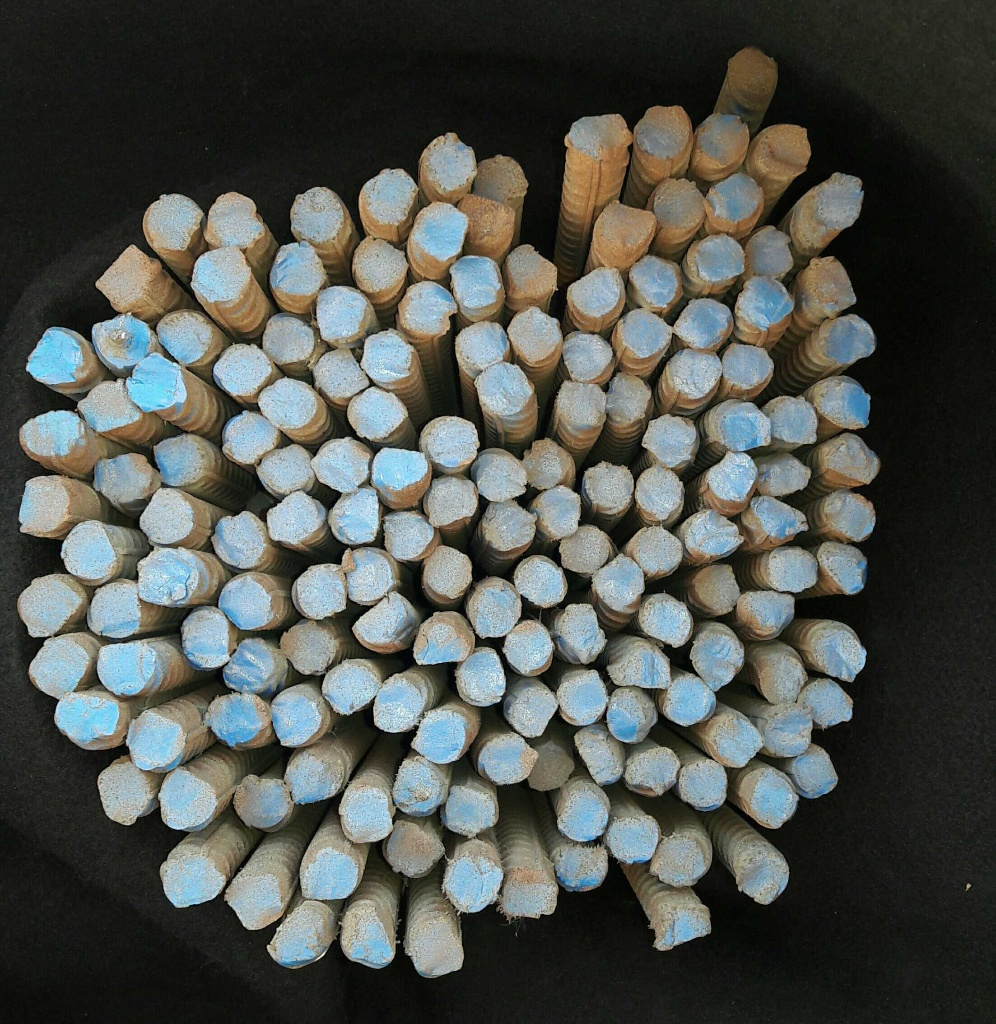dipstick: (17, 576, 80, 636), (204, 192, 263, 250), (127, 711, 184, 771), (443, 857, 503, 914), (53, 692, 119, 743), (29, 641, 87, 699), (353, 593, 412, 650), (160, 855, 224, 907), (284, 747, 343, 803), (129, 354, 186, 411), (144, 194, 202, 250), (95, 245, 150, 304), (347, 387, 407, 441), (79, 380, 142, 431), (192, 247, 250, 302), (597, 201, 655, 256), (137, 550, 192, 607), (98, 764, 148, 826), (415, 201, 468, 259), (97, 644, 155, 697), (209, 694, 268, 746), (233, 774, 289, 828), (26, 330, 83, 383), (312, 439, 369, 492), (161, 772, 214, 829), (342, 910, 394, 968), (363, 169, 417, 224), (140, 487, 194, 542), (292, 564, 346, 619), (457, 320, 511, 375), (690, 636, 744, 691), (61, 523, 114, 579), (227, 878, 284, 930), (258, 379, 317, 429), (19, 411, 84, 456), (461, 195, 515, 249), (387, 822, 441, 876), (87, 582, 140, 637), (469, 581, 521, 637), (373, 447, 430, 498), (393, 759, 444, 816), (223, 638, 276, 692), (476, 362, 531, 414), (214, 344, 270, 395), (281, 623, 337, 674), (92, 316, 149, 366), (181, 610, 230, 668), (314, 349, 368, 401), (402, 282, 456, 334), (814, 376, 869, 427), (426, 134, 476, 190), (422, 417, 478, 467), (415, 615, 472, 664), (353, 237, 405, 290), (219, 576, 271, 629), (222, 414, 276, 465), (213, 512, 264, 566), (412, 712, 466, 763), (328, 490, 378, 545), (481, 500, 536, 550), (574, 730, 624, 785), (820, 314, 875, 364), (755, 125, 810, 175), (480, 733, 536, 782), (21, 477, 69, 534), (269, 693, 321, 745), (267, 491, 318, 544), (607, 690, 658, 743), (736, 851, 789, 902), (154, 436, 208, 486), (303, 848, 357, 898), (323, 664, 378, 713), (457, 650, 506, 705), (625, 747, 680, 796), (558, 671, 607, 726), (824, 434, 880, 482), (750, 771, 797, 828), (292, 187, 343, 239), (509, 308, 560, 360), (638, 105, 690, 156), (669, 348, 721, 399), (697, 114, 749, 165), (413, 925, 463, 978), (568, 266, 622, 315), (814, 172, 862, 227), (156, 313, 212, 360), (94, 454, 151, 500), (506, 247, 557, 298), (317, 286, 367, 338), (452, 256, 501, 309), (508, 685, 557, 738), (640, 594, 689, 647), (745, 226, 794, 279), (651, 836, 705, 884), (502, 870, 557, 917), (654, 905, 711, 950), (569, 114, 630, 156), (271, 243, 321, 294), (342, 790, 392, 841), (361, 332, 413, 381), (595, 555, 644, 607), (740, 278, 792, 327), (258, 444, 311, 492), (686, 510, 739, 558), (346, 549, 393, 603), (385, 511, 439, 558), (675, 299, 729, 346), (611, 646, 670, 689), (564, 332, 614, 382), (426, 476, 477, 525), (647, 415, 698, 464), (709, 174, 760, 223), (815, 631, 864, 682), (503, 620, 551, 672), (808, 257, 855, 310), (798, 679, 852, 725), (820, 541, 866, 595), (447, 786, 496, 836), (655, 179, 704, 229), (663, 678, 715, 725), (707, 451, 756, 500), (475, 454, 527, 500), (692, 236, 745, 281), (561, 525, 609, 574), (374, 683, 423, 731), (766, 706, 813, 756), (559, 604, 605, 655), (636, 467, 682, 518), (721, 403, 772, 449), (269, 925, 323, 968), (263, 317, 313, 363), (426, 544, 471, 595), (557, 795, 608, 840), (556, 845, 607, 890), (607, 817, 658, 862), (619, 311, 670, 356), (741, 591, 794, 634), (517, 559, 565, 606), (713, 720, 761, 767), (760, 656, 807, 704), (633, 526, 682, 572), (476, 155, 526, 200), (758, 453, 810, 496), (828, 492, 875, 539), (681, 760, 727, 808), (525, 440, 570, 489), (631, 257, 676, 306), (722, 343, 771, 388), (727, 49, 778, 92), (586, 463, 633, 509), (693, 565, 740, 611), (771, 396, 817, 443), (769, 547, 817, 592), (559, 381, 606, 426), (528, 742, 573, 789), (537, 488, 580, 537), (794, 752, 837, 798), (607, 374, 649, 419)
